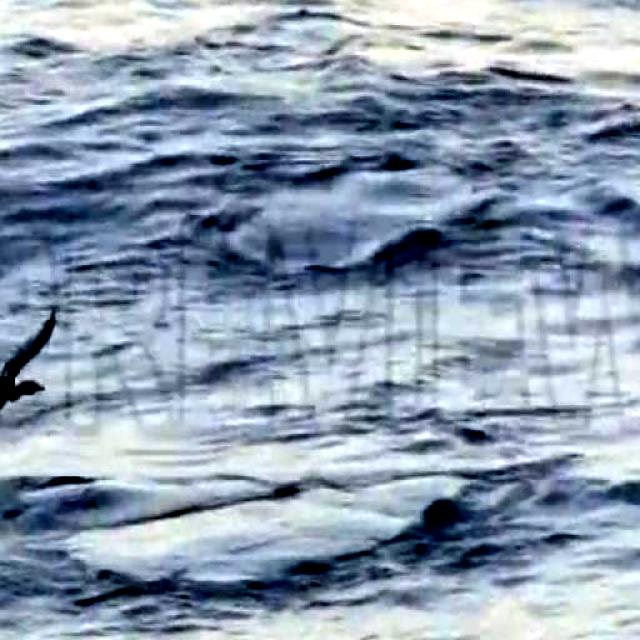airplane: (0, 318, 74, 426)
